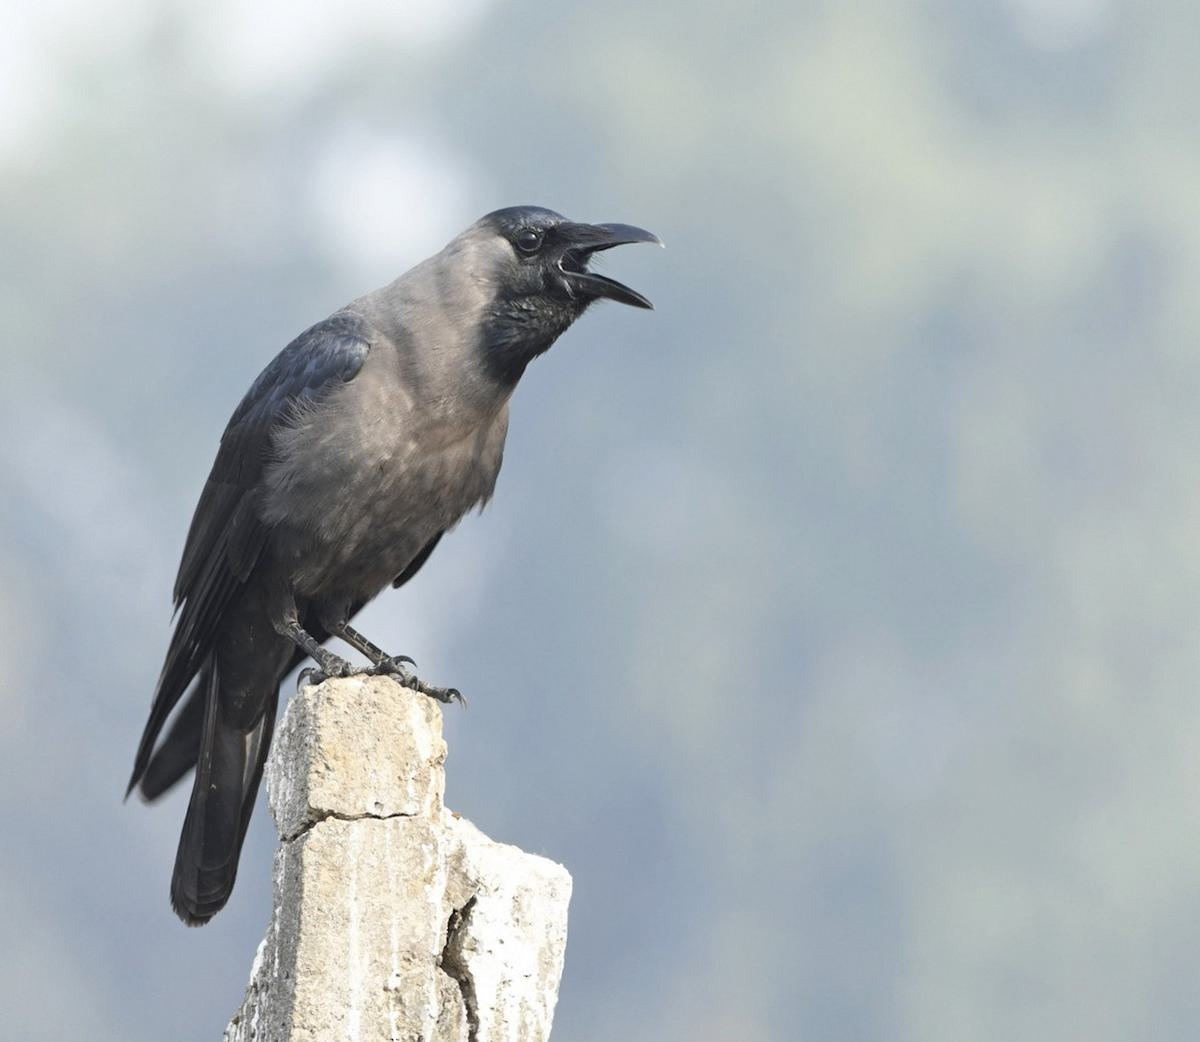crow: (91, 185, 708, 955)
